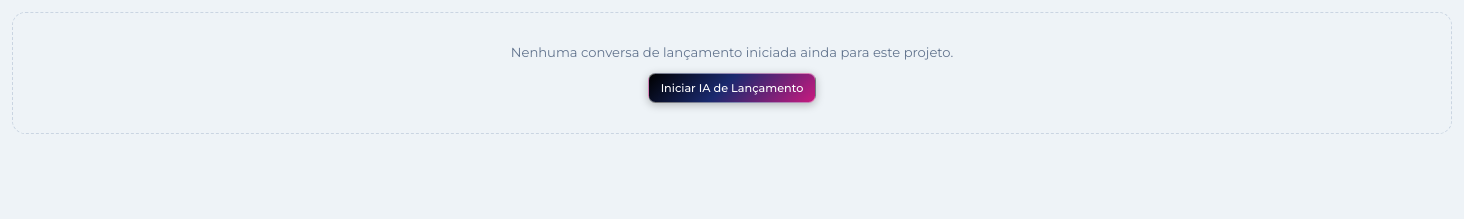
Scenario: LaunchSessionPanel › sem sessão ainda: mostra convite pra iniciar; clicar cria a sessão
Expected: the text "Nenhuma conversa de lançamento iniciada" is shown, [511, 44, 953, 60]
Click the button "Iniciar IA de Lançamento": (732, 88) [648, 73, 816, 103]
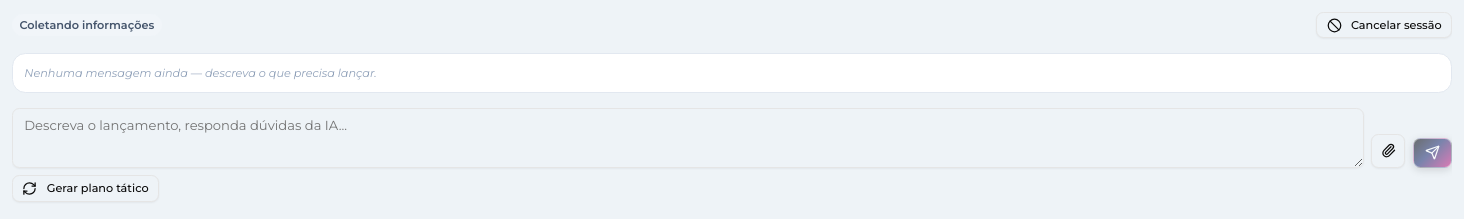
Expected: the text "Coletando informações" is shown, [12, 14, 162, 36]
